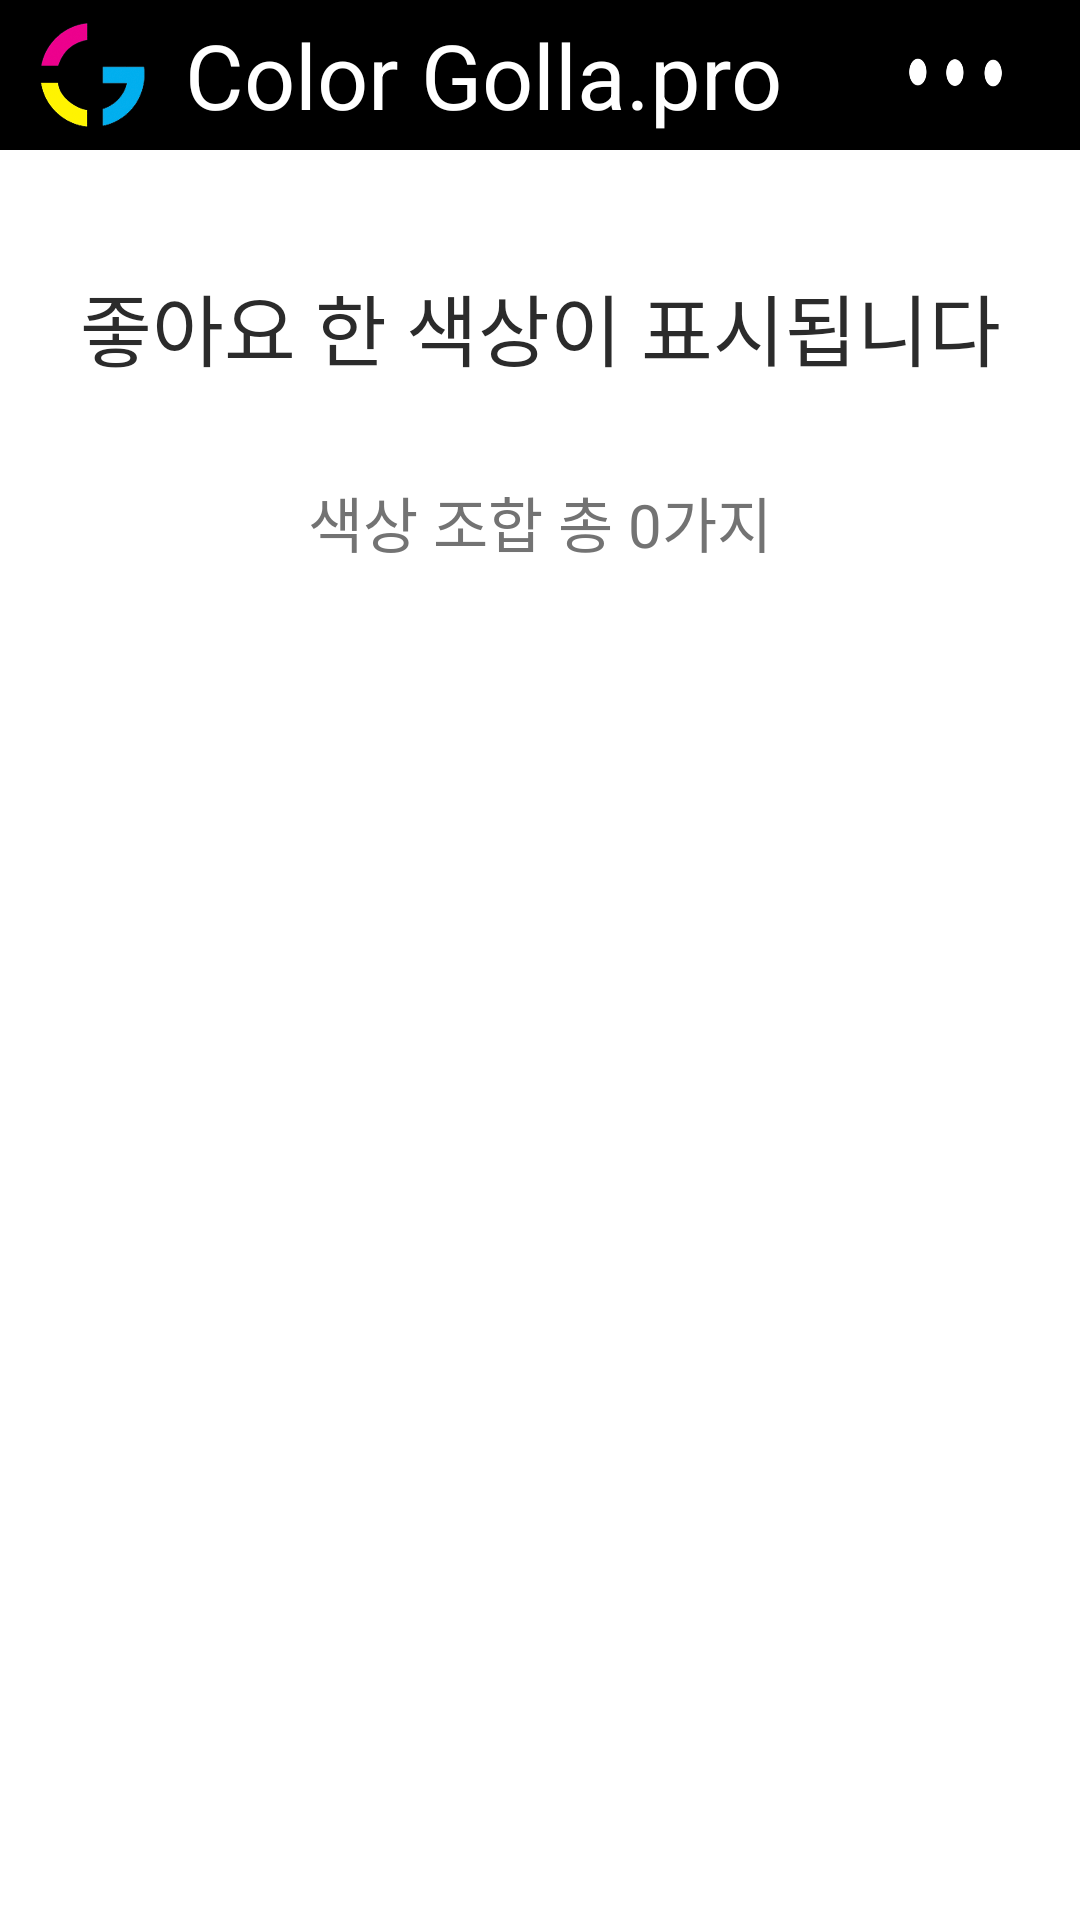

Icon bounding boxes for this 1080px×1920px phone screenshot, format bbox=(x1, y1, x2, y2):
more: bbox=(909, 58, 1002, 87)
